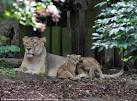lion: (18, 33, 125, 83)
